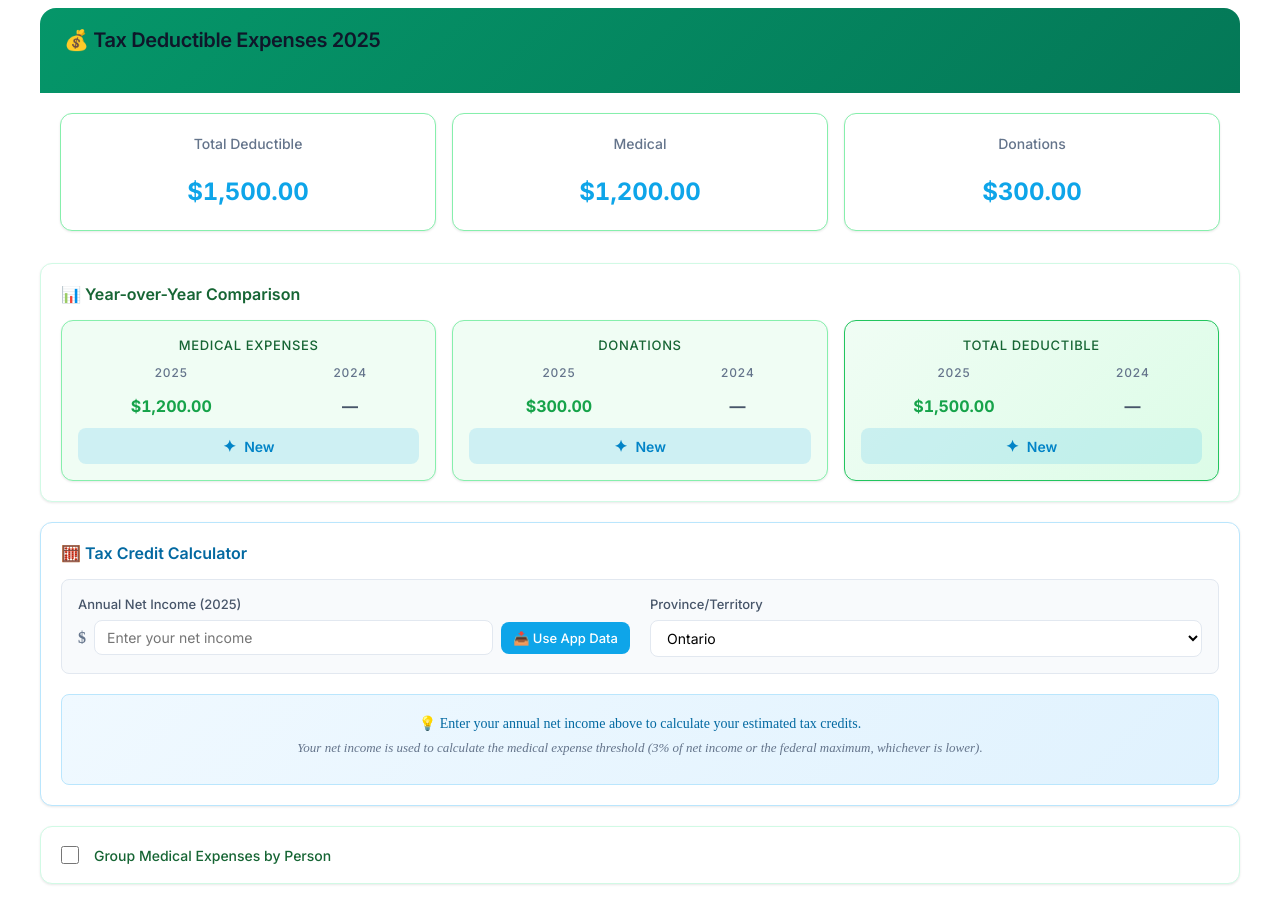
Test: TaxDeductible › Person-Grouped Display › should display person groups when grouping is enabled
Expected: the text "Group Medical Expenses by Person" is shown, [94, 847, 331, 864]
// Enable grouping
Step 1. Click the checkbox → (70, 855), box [61, 846, 79, 864]
(page scrolled)
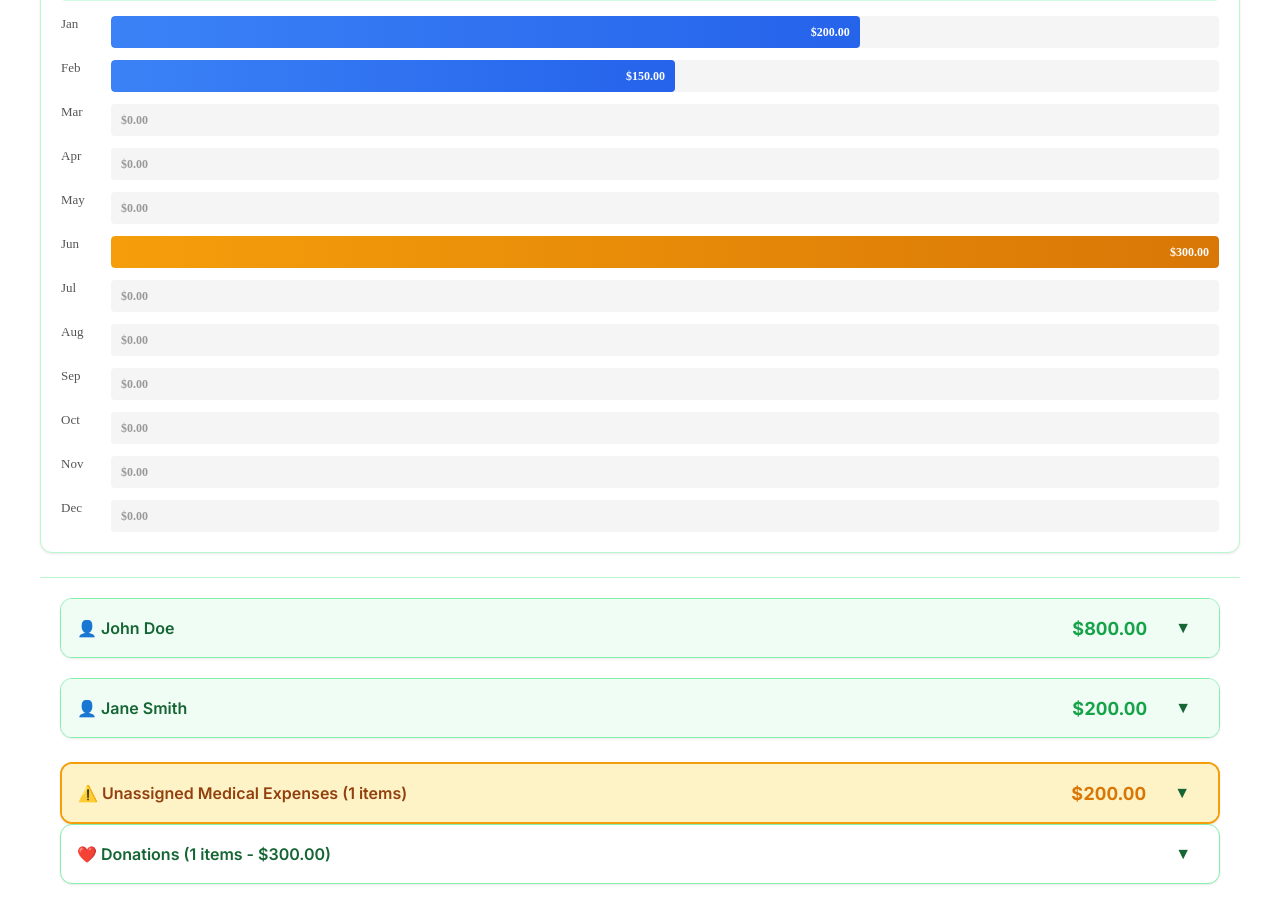
Result: the heading "👤 John Doe" is shown at [77, 618, 174, 638]
Result: the heading "👤 Jane Smith" is shown at [77, 698, 187, 718]
